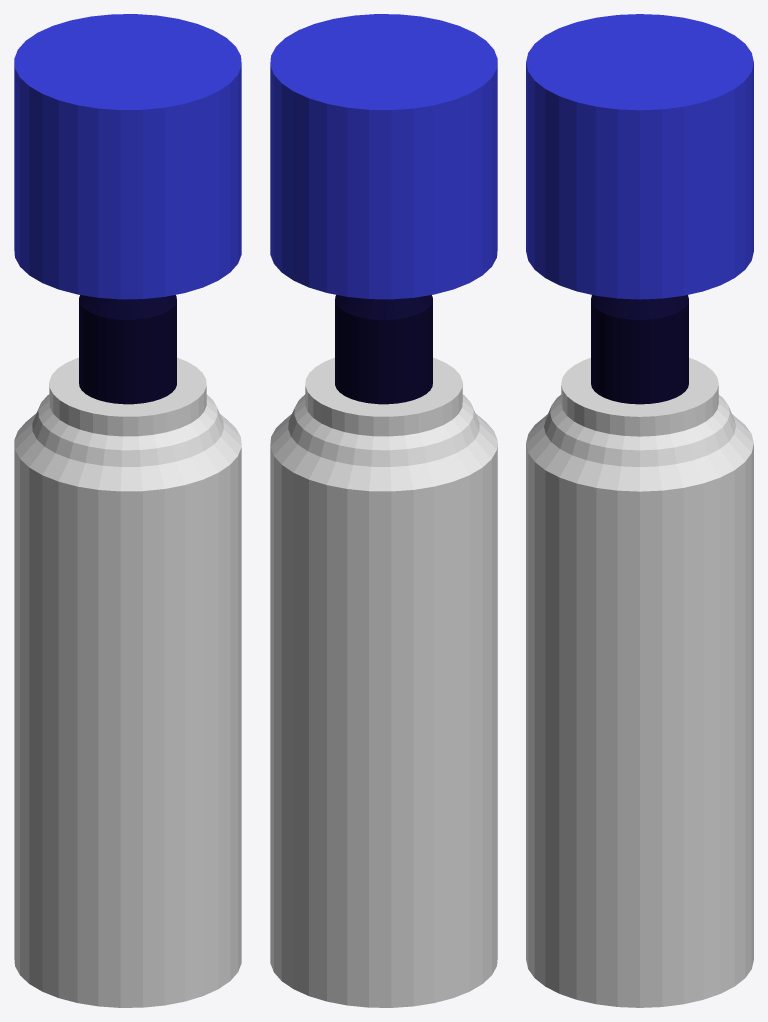
The model's file is plumon.fbx.
3 renders of one model, left to right at view 1: azimuth 30°, elevation 25°; view 2: azimuth 150°, elevation 25°; view 3: azimuth 270°, elevation 25°, orthographic.
Parts seen in each view (by area): view 1: Cilindro, Cilindro.002, Cilindro.001; view 2: Cilindro, Cilindro.002, Cilindro.001; view 3: Cilindro, Cilindro.002, Cilindro.001.
Boxes of the visible parts, bbox=[...] form: Cilindro: bbox=[14, 357, 241, 1007]; Cilindro.002: bbox=[14, 14, 241, 299]; Cilindro.001: bbox=[79, 295, 176, 404]; Cilindro: bbox=[270, 357, 497, 1007]; Cilindro.002: bbox=[270, 14, 497, 299]; Cilindro.001: bbox=[335, 295, 432, 404]; Cilindro: bbox=[526, 358, 753, 1007]; Cilindro.002: bbox=[526, 14, 753, 299]; Cilindro.001: bbox=[591, 295, 688, 404].
Size of the model in its own units: 100 by 435 by 100.
